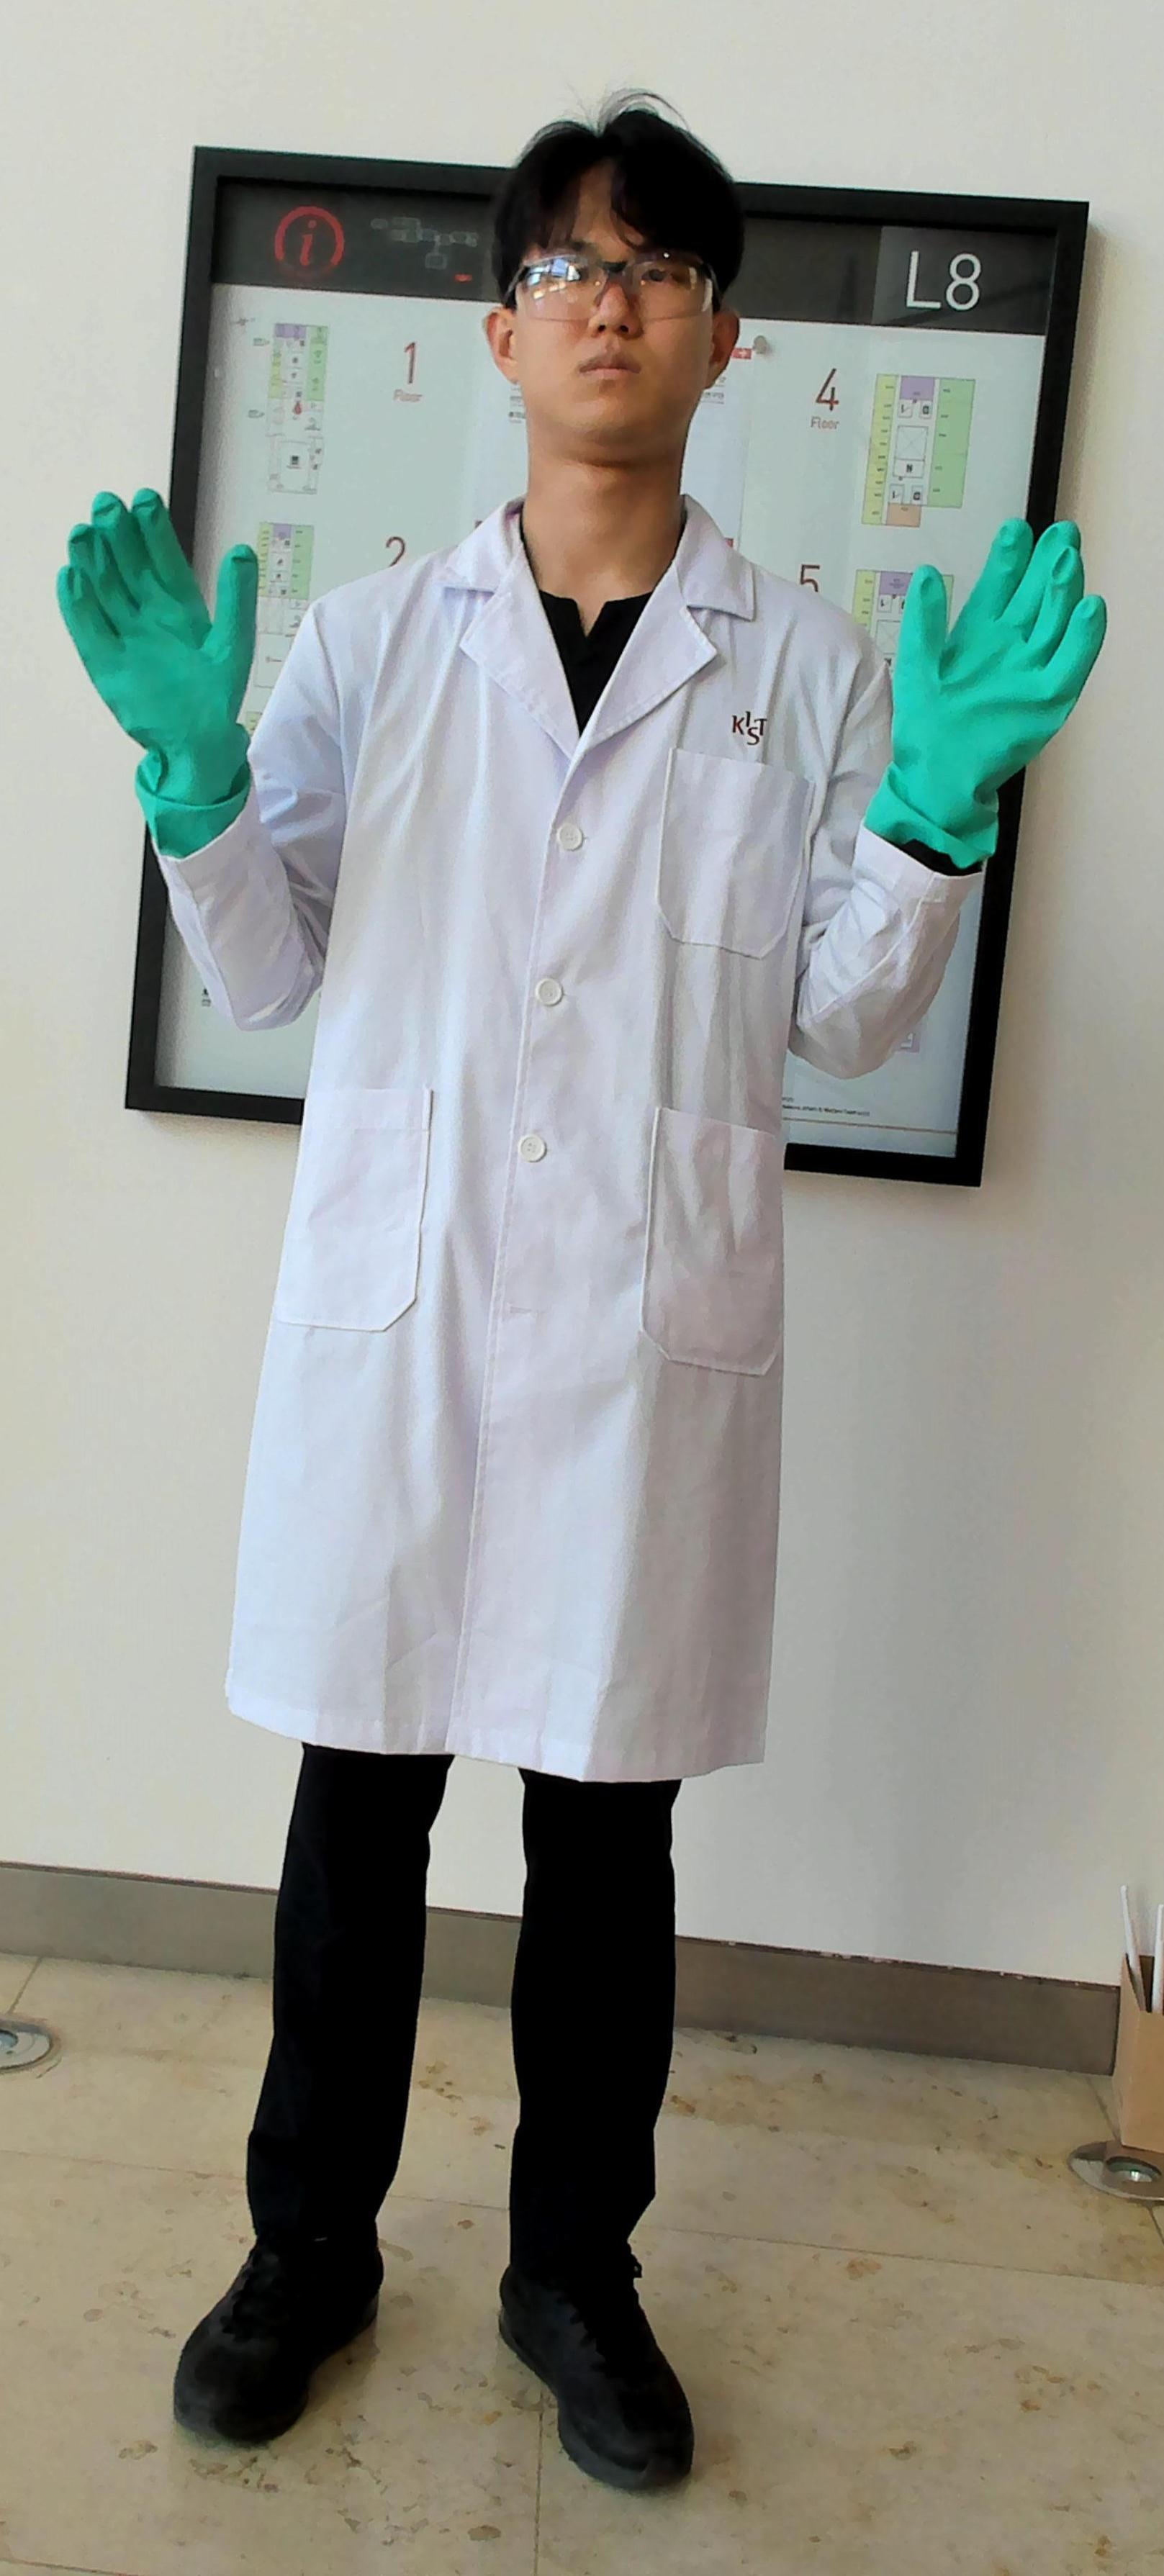lab_coat: (279, 585, 858, 1720)
